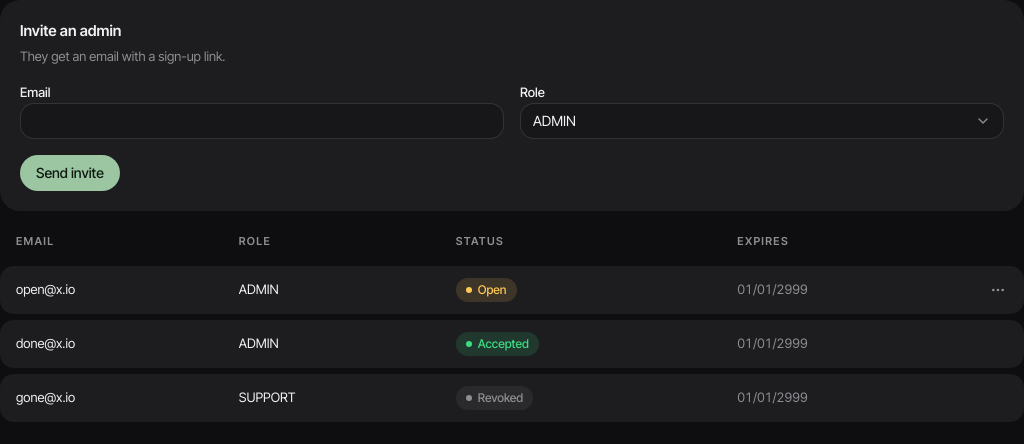
Test: InvitesPanel › does not offer OWNER as an invite role
expect the table named "Invites" is shown: met, box [0,227,1023,428]
Click the dropdown named "Role".
click(554, 120)  # box [520,103,1004,139]
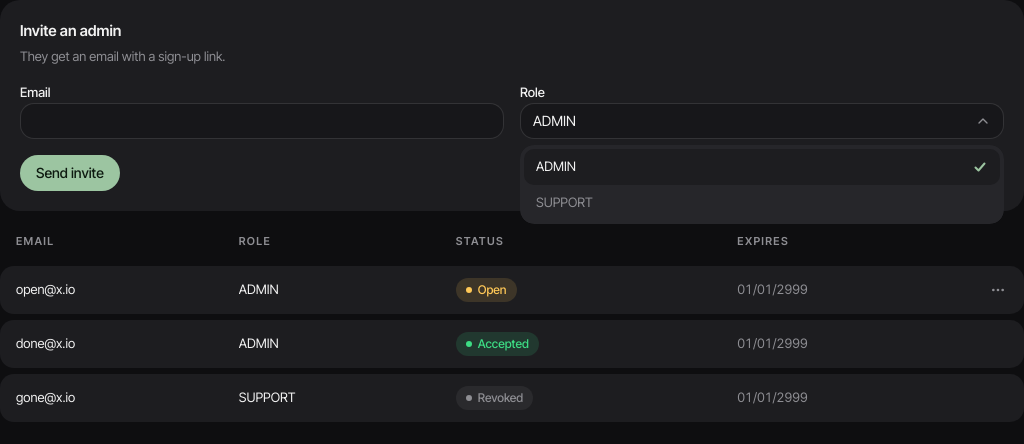
expect the option "ADMIN" is shown: met, box [524,149,1000,184]
